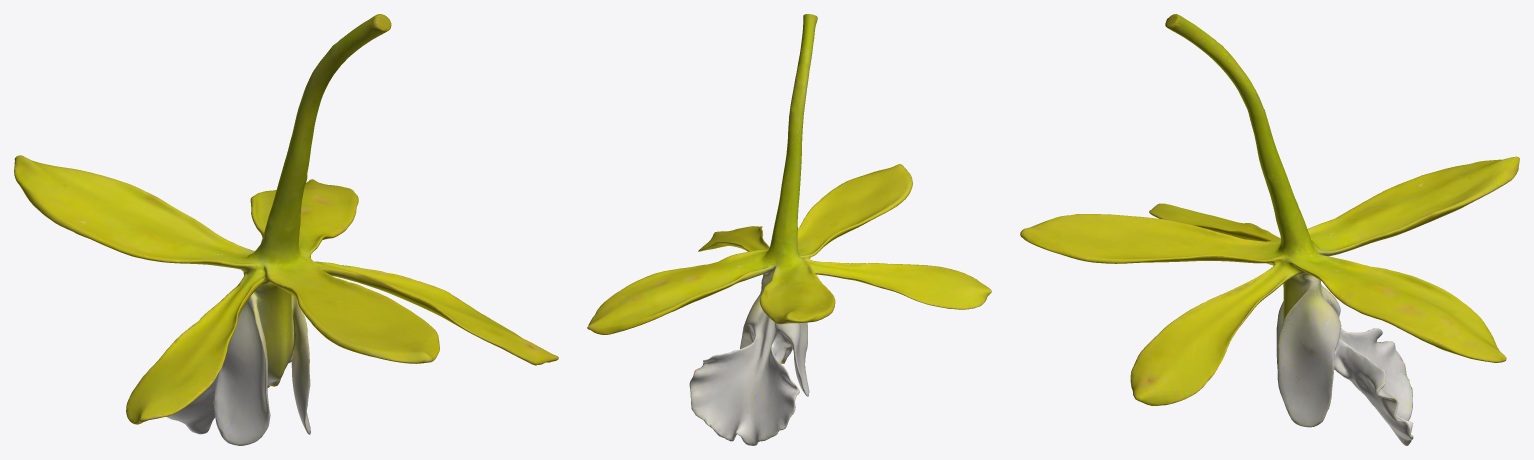
Rendered from encyclia-preview.glb.
The picture shows the model from 3 angles, left to right: view 1: azimuth 30°, elevation 25°; view 2: azimuth 150°, elevation 25°; view 3: azimuth 270°, elevation 25°; orthographic projection. The views are drawn at different scales.
Bounding box in the file's own units: 0.029 × 0.0344 × 0.0355.
Materials: 1 (1 with a texture image).
